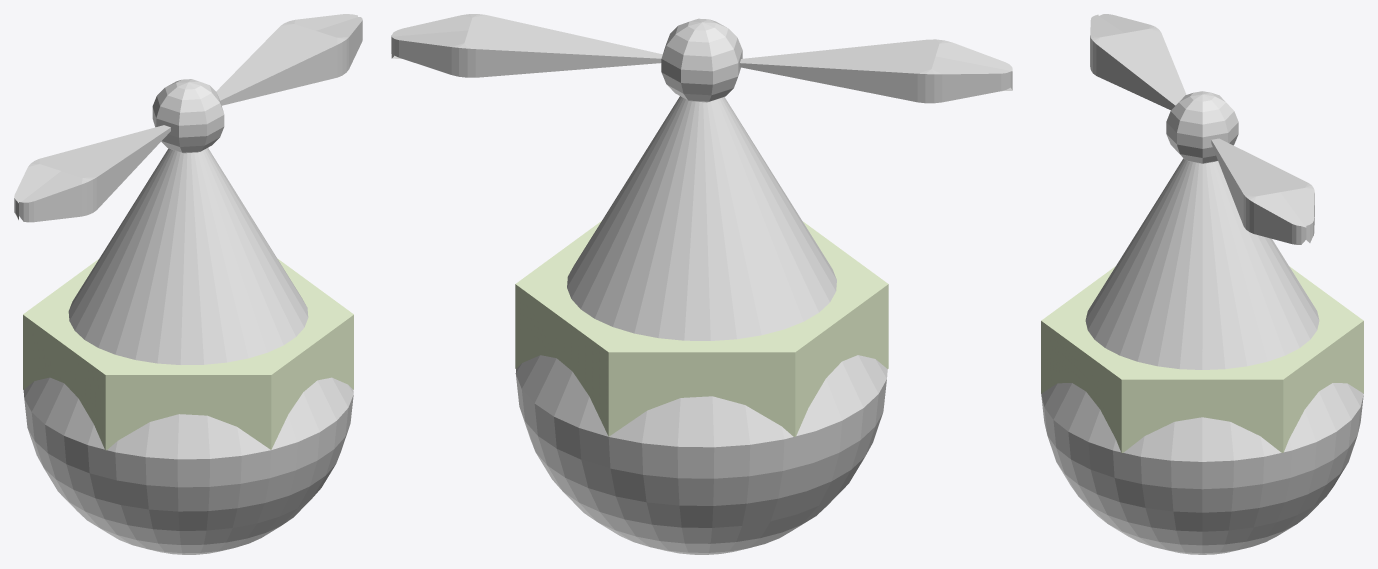
The model's file is guider.fbx.
3 renders of one model, left to right at view 1: azimuth 30°, elevation 25°; view 2: azimuth 150°, elevation 25°; view 3: azimuth 270°, elevation 25°, orthographic. The views are drawn at different scales.
Parts seen in each view (by area): view 1: Sphere, Circle.001, Sphere.001; view 2: Sphere, Circle.001, Sphere.001; view 3: Sphere, Circle.001, Sphere.001.
Boxes of the visible parts, x1=… form: Sphere: x1=23, y1=79, x2=353, y2=554; Circle.001: x1=23, y1=258, x2=353, y2=450; Sphere.001: x1=14, y1=14, x2=362, y2=222; Sphere: x1=515, y1=18, x2=887, y2=554; Circle.001: x1=515, y1=221, x2=888, y2=436; Sphere.001: x1=391, y1=14, x2=1012, y2=103; Sphere: x1=1041, y1=91, x2=1363, y2=554; Circle.001: x1=1041, y1=266, x2=1363, y2=452; Sphere.001: x1=1090, y1=14, x2=1314, y2=244.
Size of the model in its own units: 311 by 305 by 200.
